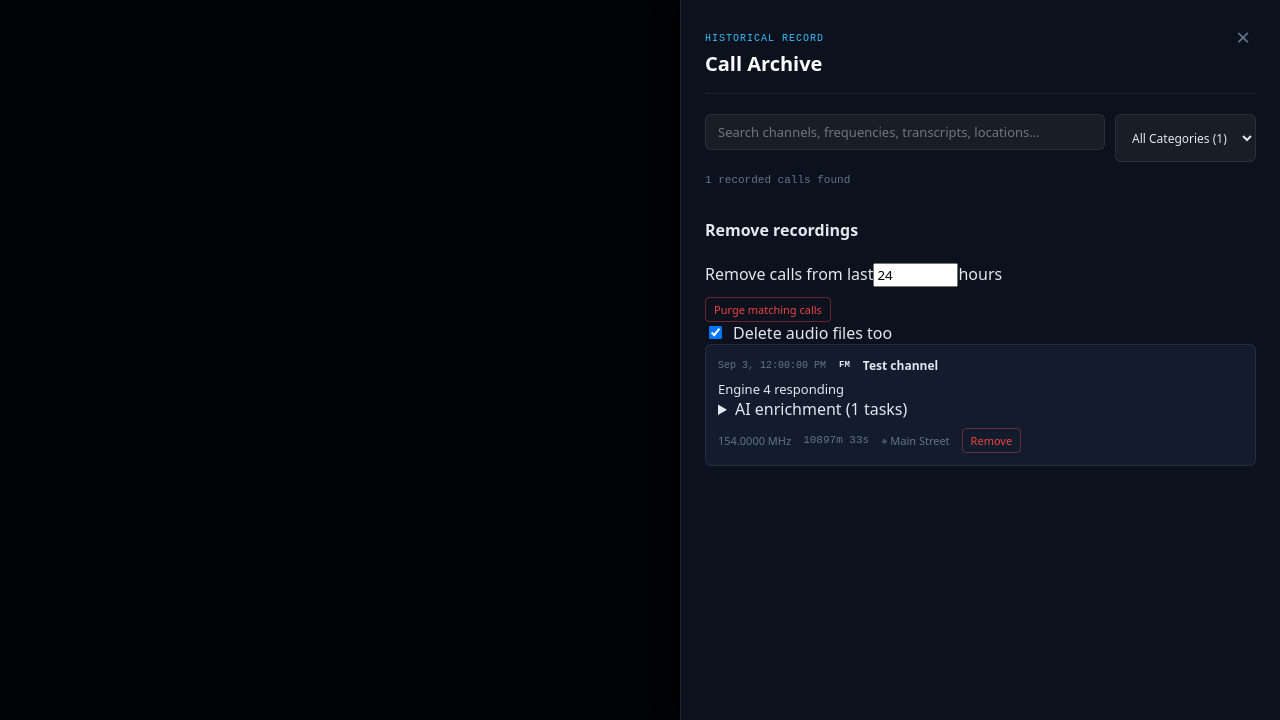
Scenario: keeps enrichment interactions in the archive and reports retry failures
Click the heading "AI enrichment (1 tasks)".
click(821, 408)  # box [735,398,907,420]
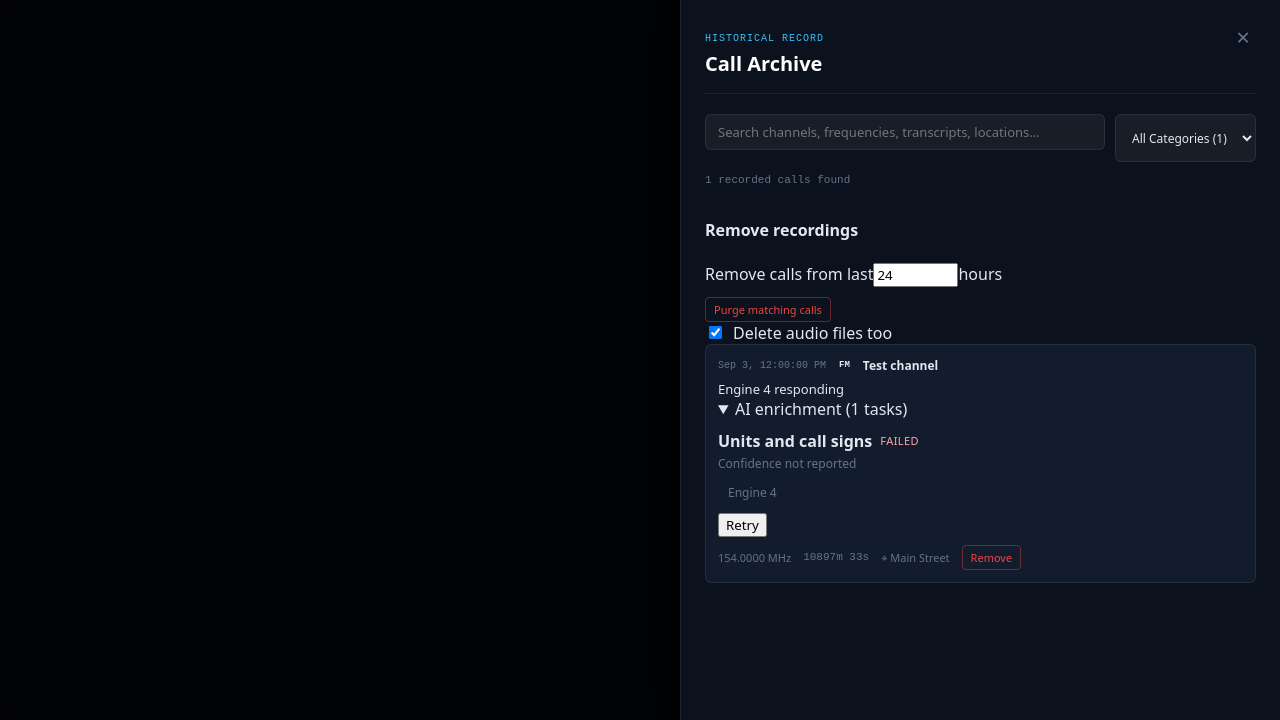
Expected: the text "Engine 4" is shown, [728,484,777,500]
Click the button "Retry".
click(742, 524)  # box [718,512,767,536]
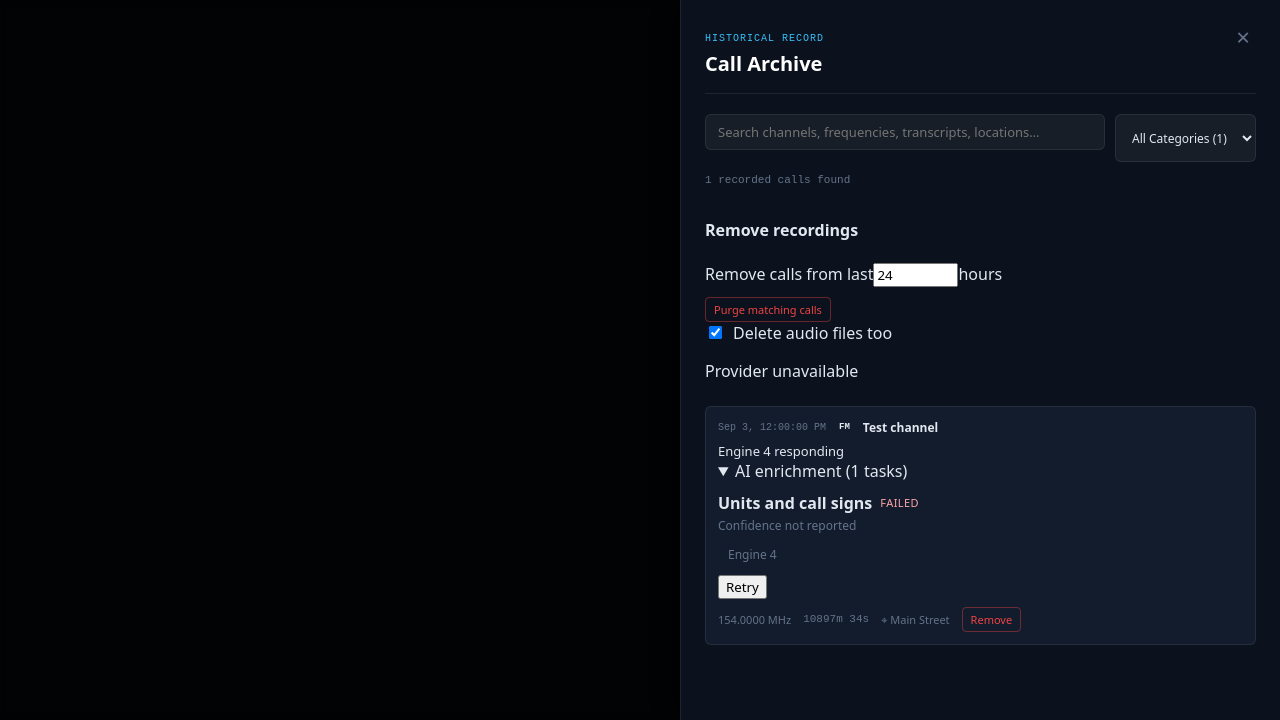
Expected: the message reads "Provider unavailable", [705,360,858,382]
